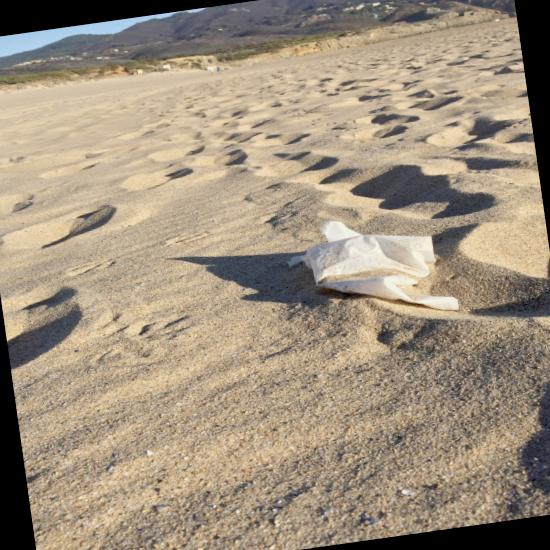Plastic film: (288, 221, 459, 311)
